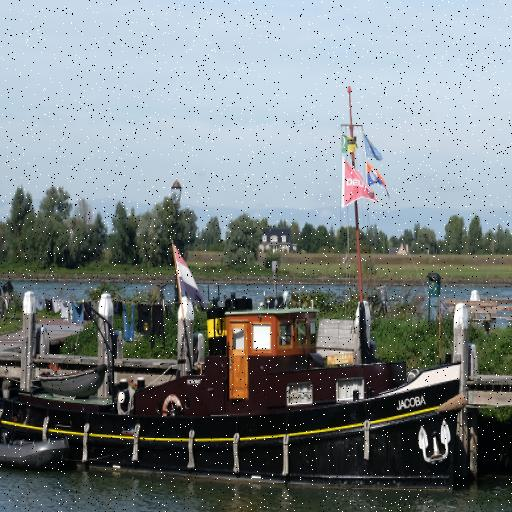tugboat: (1, 82, 473, 512)
